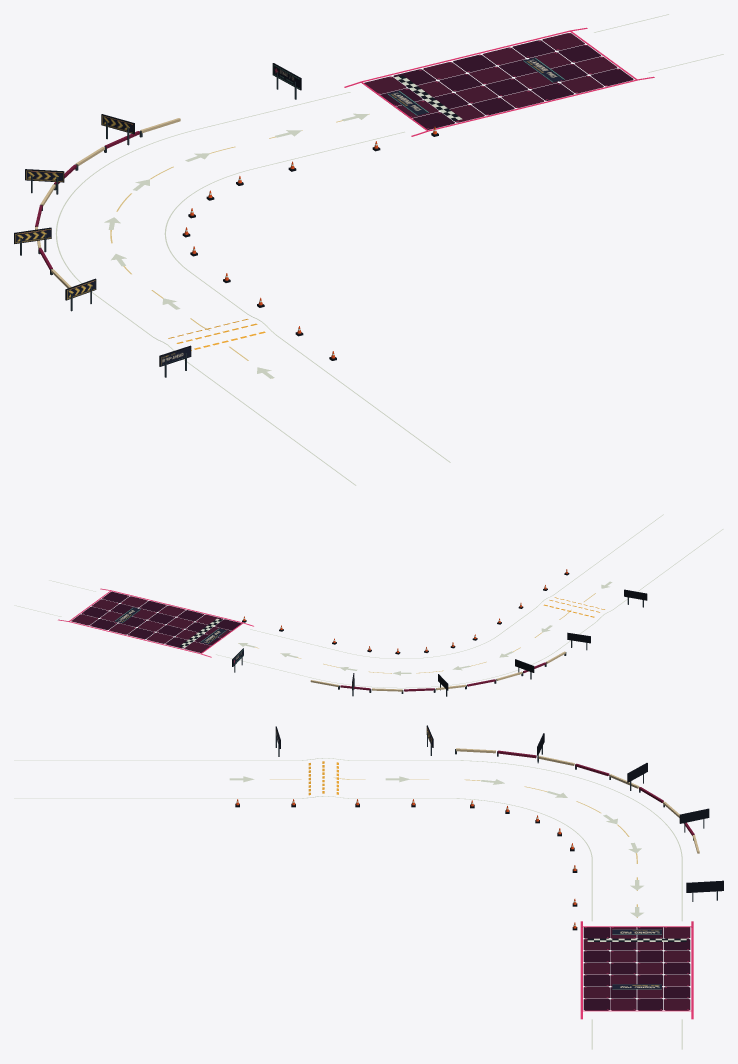
The model's file is CrewRoute.obj.
The picture shows the model from 3 angles, top to bottom: view 1: azimuth 30°, elevation 25°; view 2: azimuth 150°, elevation 25°; view 3: azimuth 270°, elevation 25°; orthographic projection. The views are drawn at different scales.
Bounding box in the file's own units: 90.43 × 2.73 × 88.86.
12 materials, 1 textured.
